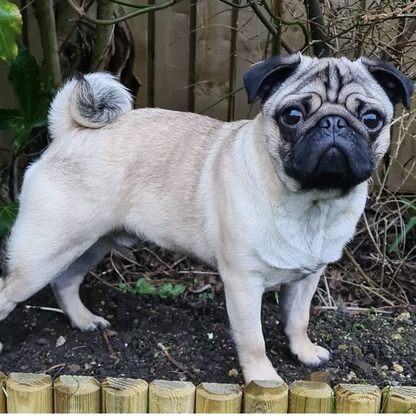Pug: (2, 46, 416, 393)
